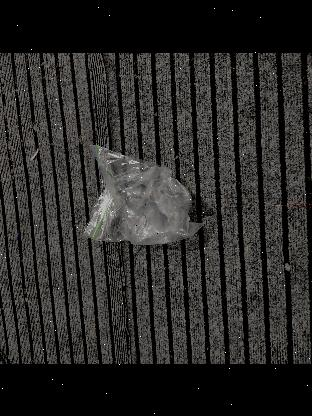Others: (84, 145, 202, 244)
